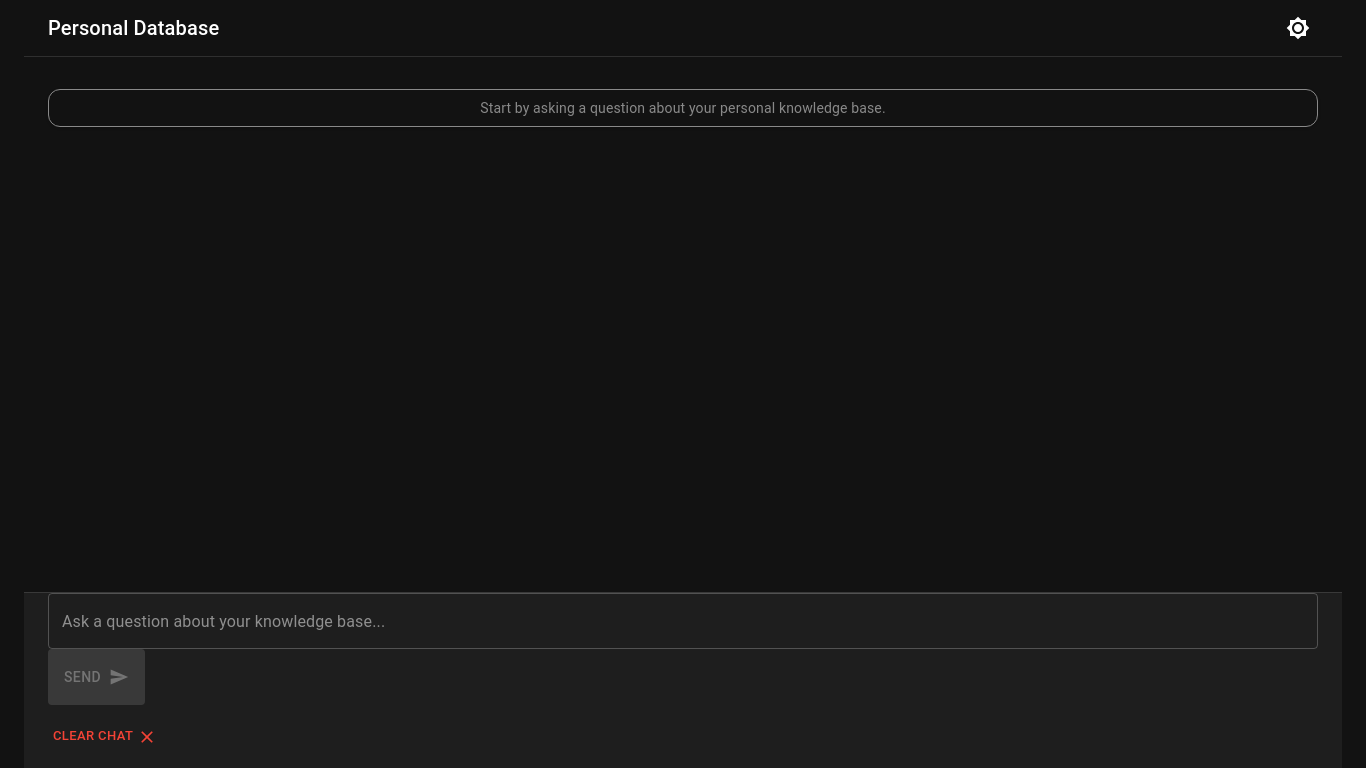
Test: App › Sending messages › adds user message to chat on submit
In the field with placeholder "Ask a question about your knowledge base...": coordinates (683, 621) x1=48 y1=593 x2=1318 y2=649, type "What is this?"
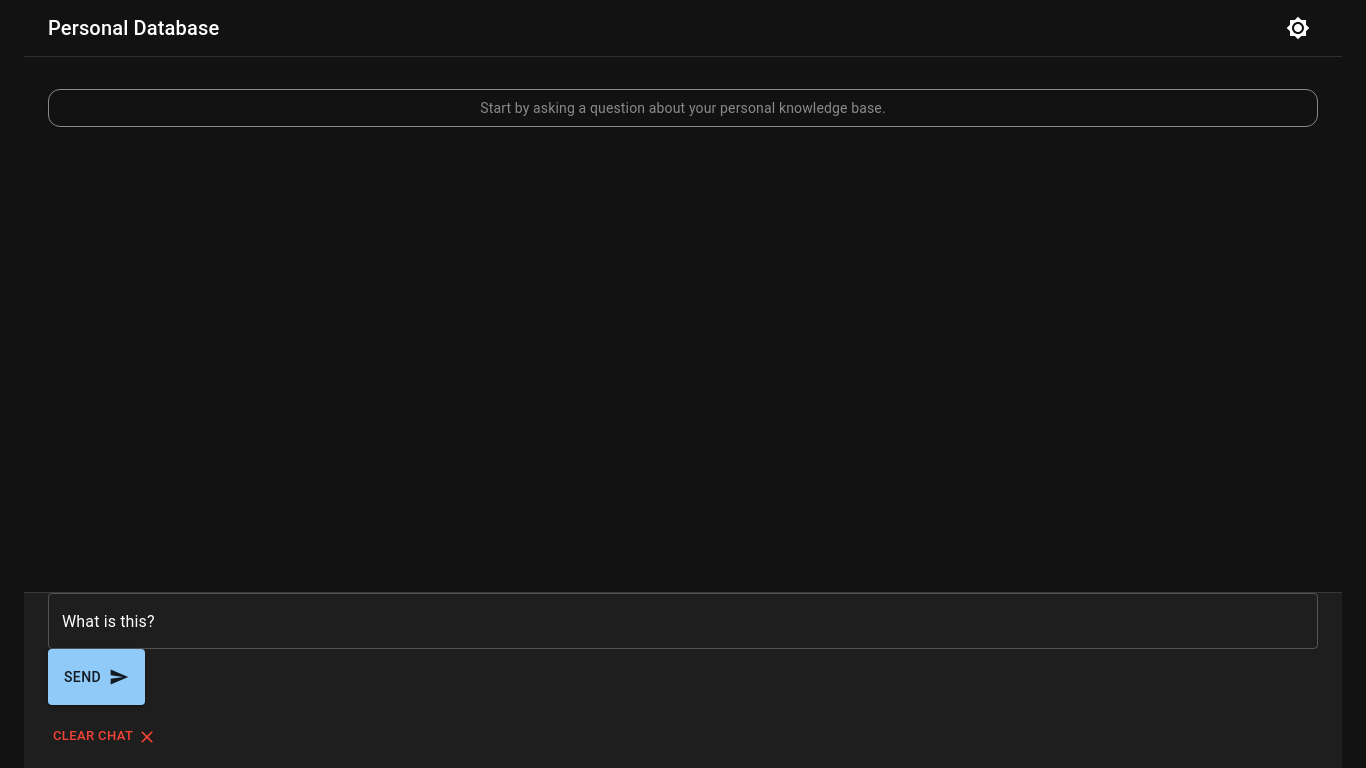
Submit the form, box x1=48 y1=593 x2=1318 y2=705
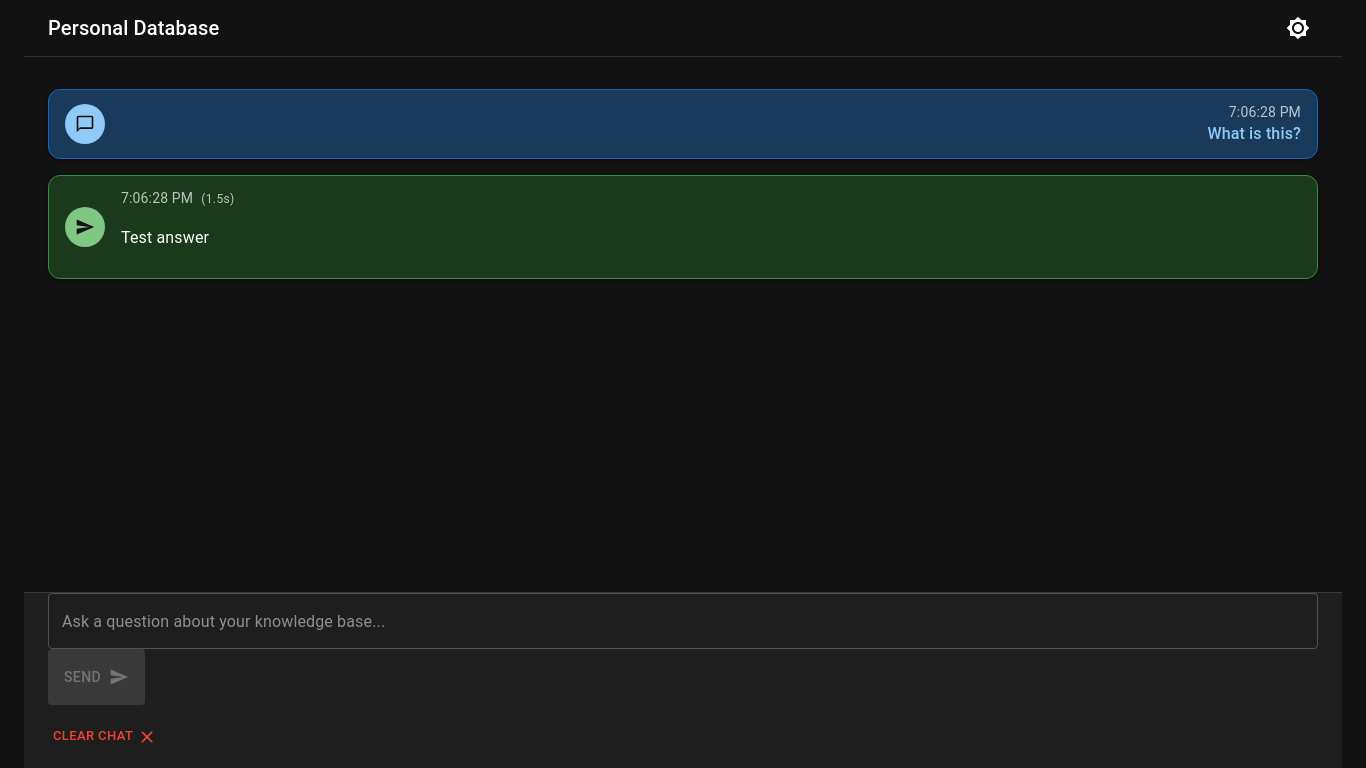
Expected: the text "What is this?" is shown, x1=1207 y1=124 x2=1301 y2=143
